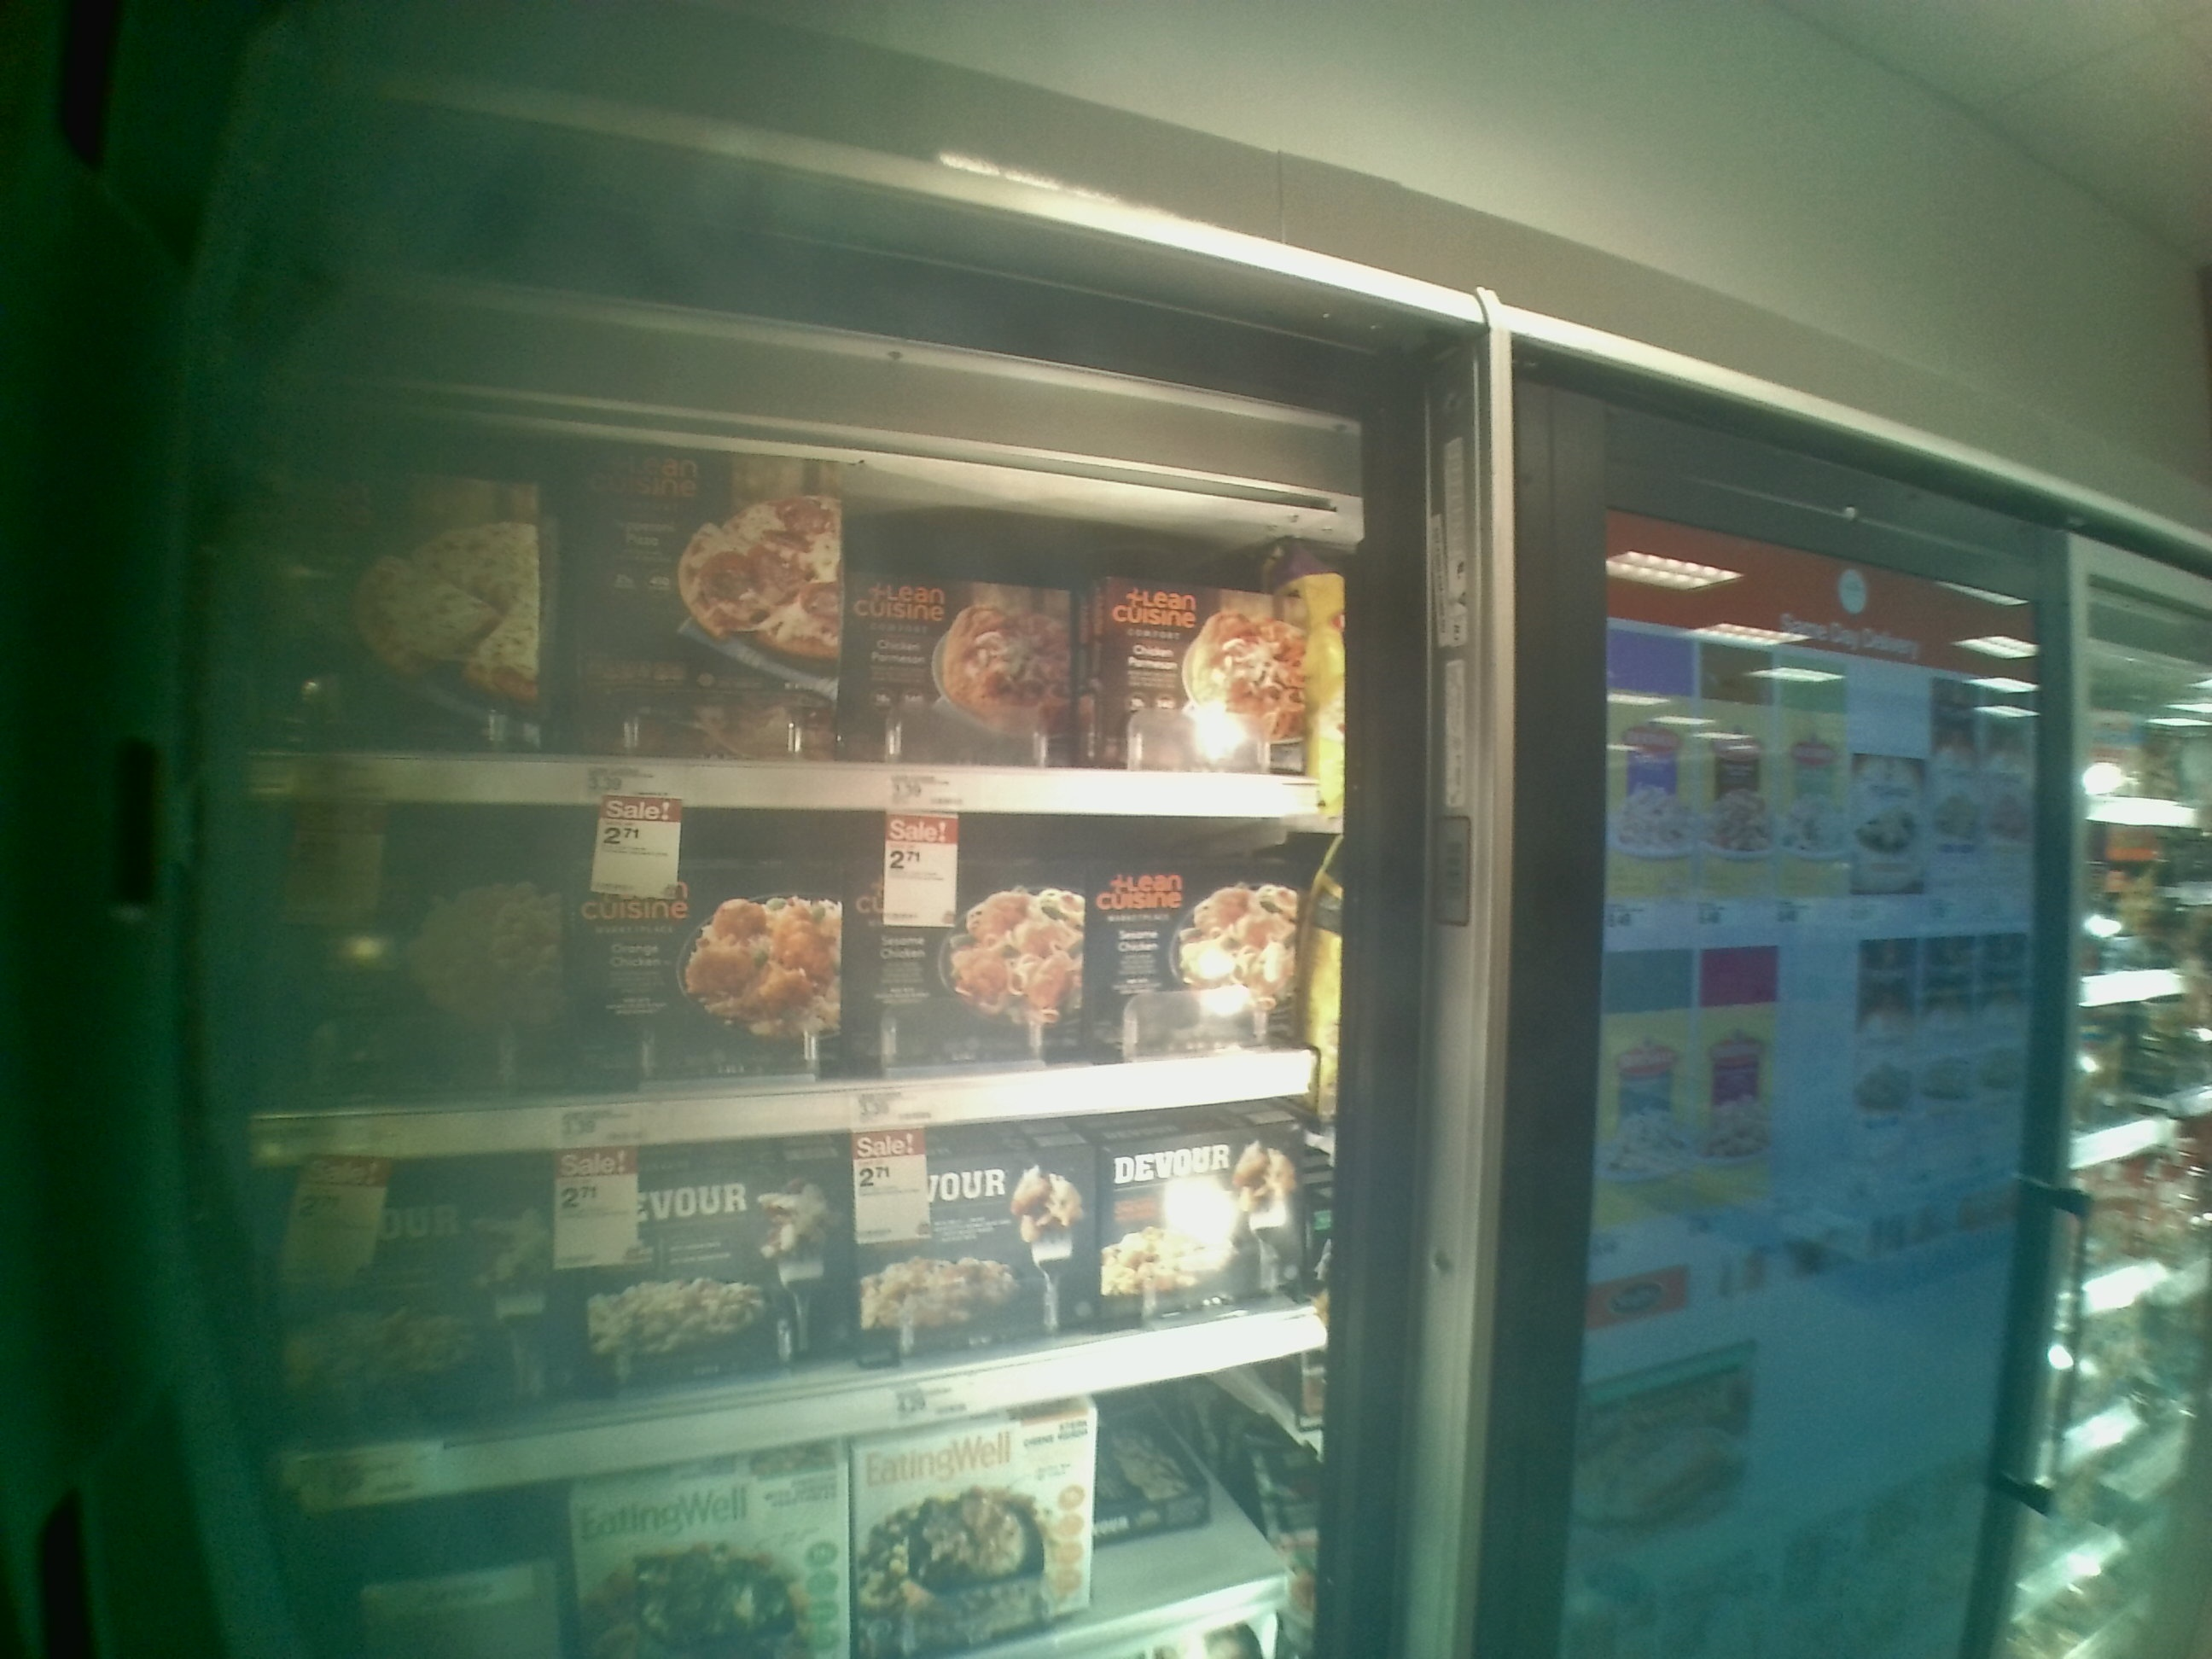shelf: (221, 408, 1345, 819), (235, 798, 1350, 1168)
